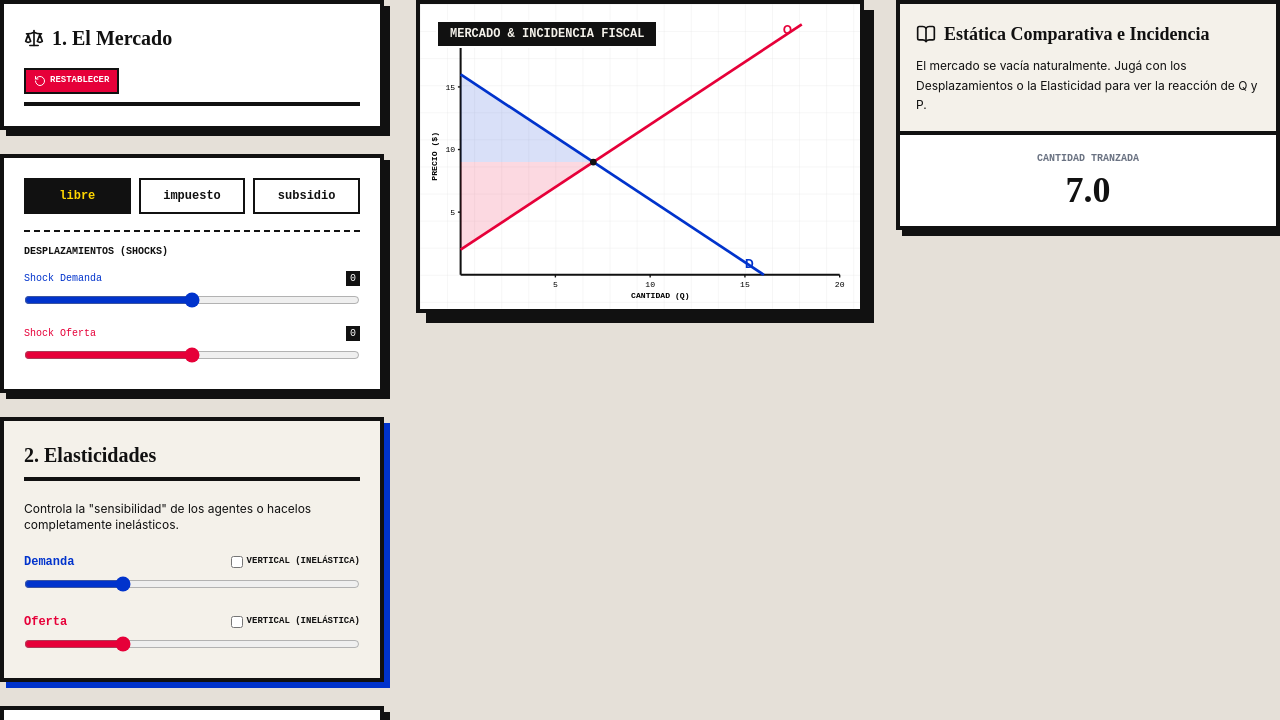
Test: Mercado integration › warns and explains a perfectly inelastic demand with a demand shock
Click the 1st checkbox labelled "Vertical (Inelástica)": (237, 562) x1=231 y1=556 x2=243 y2=568
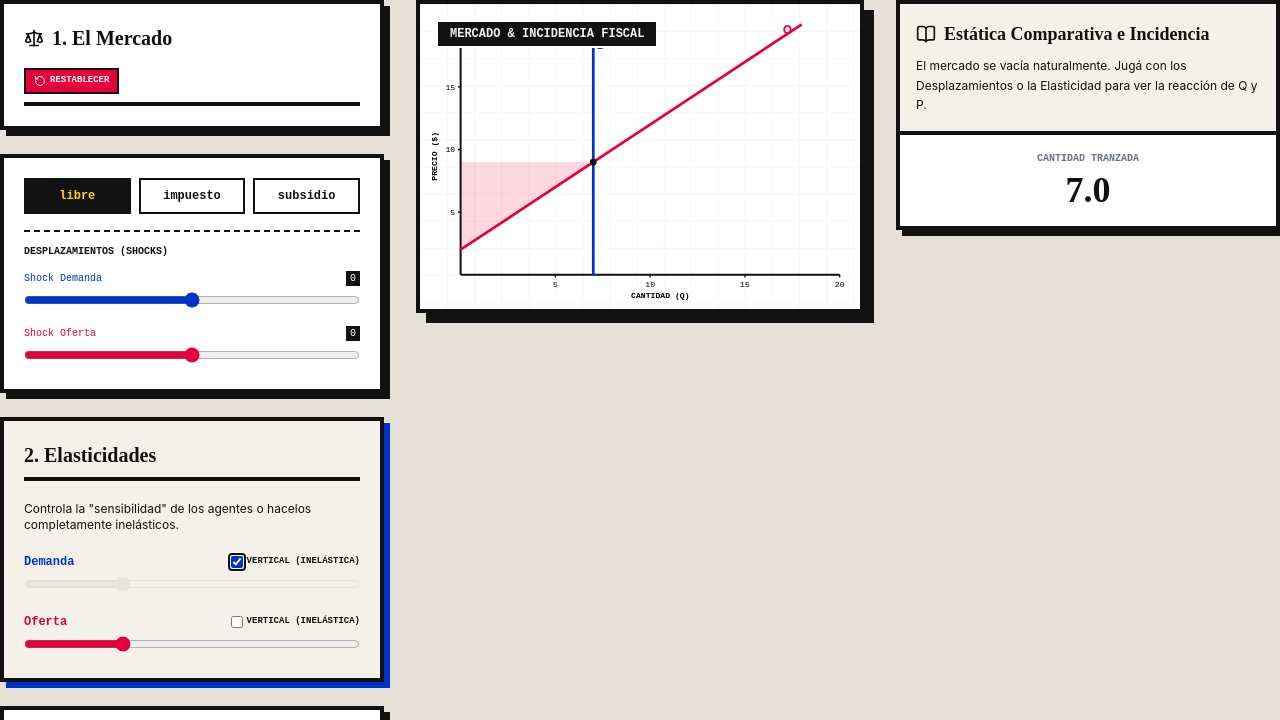
Set the slider below "Shock Demanda" to "5": (292, 300) x1=24 y1=292 x2=360 y2=308
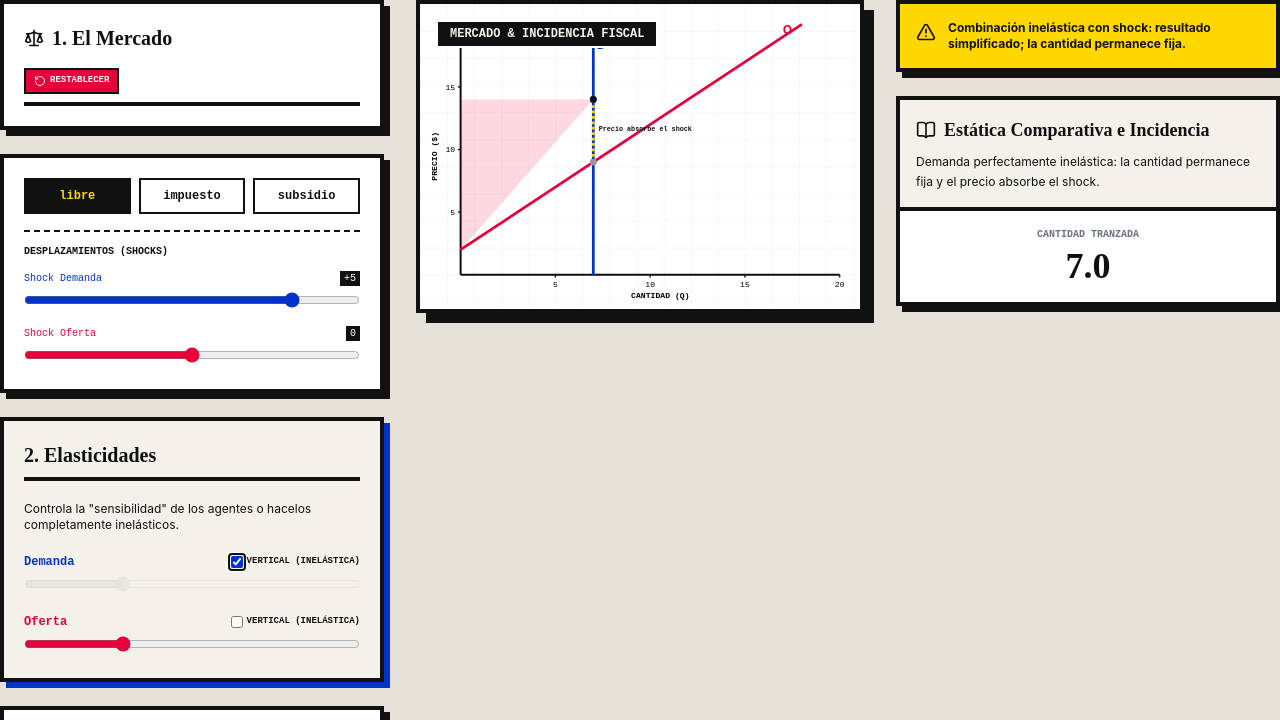
Result: the text "Combinación inelástica con shock" is shown at x1=948 y1=20 x2=1211 y2=51
Result: the text "Demanda perfectamente inelástica" is shown at x1=916 y1=154 x2=1250 y2=188
